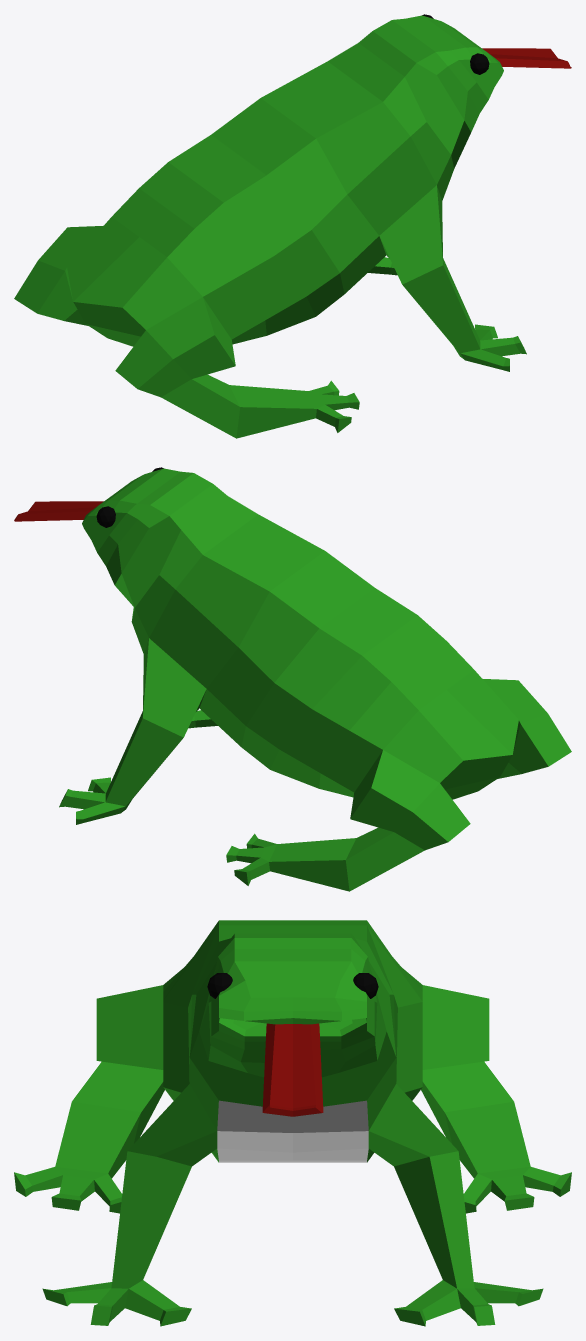
The model's file is FROG_V6.fbx.
The picture shows the model from 3 angles, top to bottom: view 1: azimuth 30°, elevation 25°; view 2: azimuth 150°, elevation 25°; view 3: azimuth 270°, elevation 25°; orthographic projection. The views are drawn at different scales.
Visible parts, largest first — view 1: Plane; view 2: Plane; view 3: Plane.
Part boxes in pixels (box(x1,y1,x2,y2)): Plane: box(14, 14, 571, 438); Plane: box(14, 467, 571, 891); Plane: box(14, 920, 571, 1326).
Size of the model in its own units: 579 by 318 by 430.
